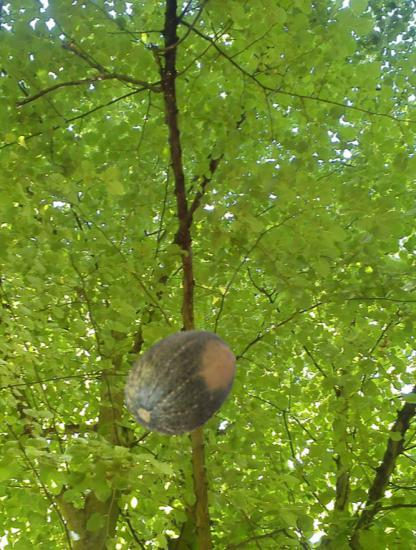Melon: (123, 327, 244, 448)
